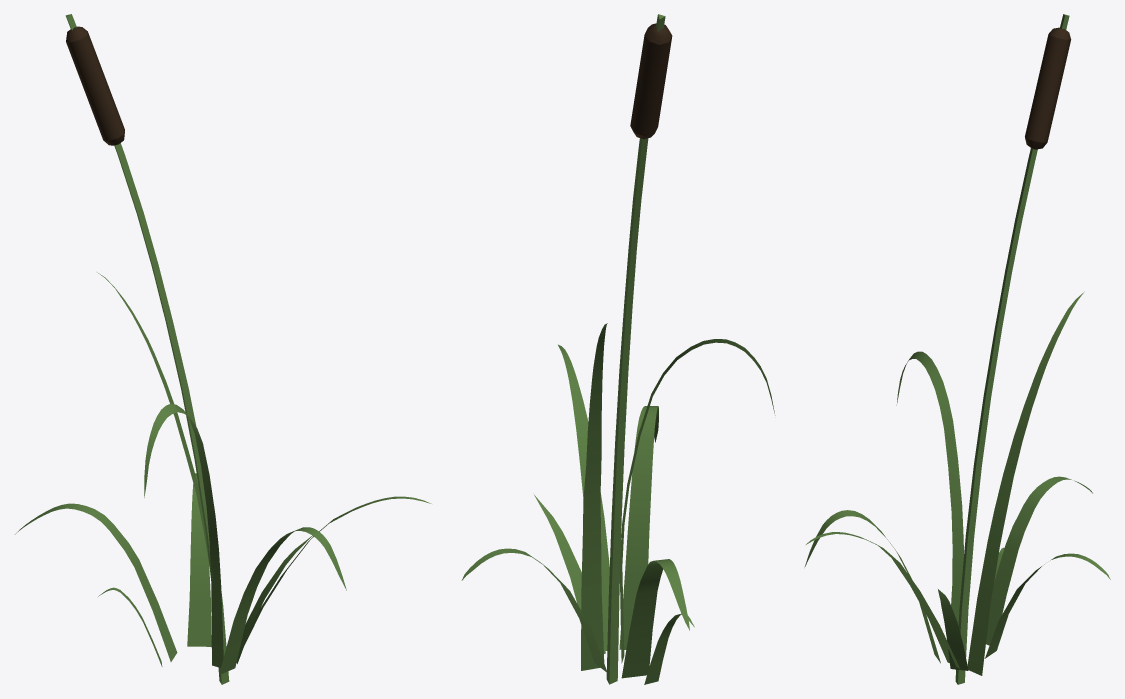
Rendered from plant_cattail_C.fbx.
3 views of the same model, side by side, from view 1: azimuth 30°, elevation 25°; view 2: azimuth 150°, elevation 25°; view 3: azimuth 270°, elevation 25° (orthographic). The views are drawn at different scales.
Parts seen in each view (by area): view 1: plant_cattail_C_twig_A, plant_cattail_C_leaf_B, plant_cattail_C_flower_A, plant_cattail_C_leaf_E, plant_cattail_C_leaf_F, plant_cattail_C_leaf_D, plant_cattail_C_leaf_A, plant_cattail_C_leaf_H; view 2: plant_cattail_C_twig_A, plant_cattail_C_leaf_A, plant_cattail_C_leaf_F, plant_cattail_C_leaf_D, plant_cattail_C_flower_A, plant_cattail_C_leaf_G, plant_cattail_C_leaf_B, plant_cattail_C_leaf_E, plant_cattail_C_leaf_H, plant_cattail_C_leaf_I; view 3: plant_cattail_C_twig_A, plant_cattail_C_leaf_A, plant_cattail_C_leaf_B, plant_cattail_C_flower_A, plant_cattail_C_leaf_D, plant_cattail_C_leaf_G, plant_cattail_C_leaf_H, plant_cattail_C_leaf_E, plant_cattail_C_leaf_F.
Boxes of the visible parts, left/top/right/bottom form: plant_cattail_C_twig_A: left=65, top=14, right=229, bottom=684; plant_cattail_C_leaf_B: left=144, top=403, right=223, bottom=667; plant_cattail_C_flower_A: left=66, top=26, right=124, bottom=145; plant_cattail_C_leaf_E: left=187, top=473, right=211, bottom=646; plant_cattail_C_leaf_F: left=219, top=527, right=346, bottom=674; plant_cattail_C_leaf_D: left=15, top=503, right=177, bottom=661; plant_cattail_C_leaf_A: left=97, top=272, right=208, bottom=558; plant_cattail_C_leaf_H: left=236, top=535, right=312, bottom=663; plant_cattail_C_twig_A: left=606, top=14, right=665, bottom=684; plant_cattail_C_leaf_A: left=581, top=323, right=607, bottom=670; plant_cattail_C_leaf_F: left=619, top=406, right=658, bottom=649; plant_cattail_C_leaf_D: left=621, top=559, right=689, bottom=678; plant_cattail_C_flower_A: left=630, top=23, right=672, bottom=139; plant_cattail_C_leaf_G: left=558, top=344, right=609, bottom=650; plant_cattail_C_leaf_B: left=619, top=339, right=775, bottom=663; plant_cattail_C_leaf_E: left=461, top=548, right=607, bottom=672; plant_cattail_C_leaf_H: left=534, top=495, right=605, bottom=653; plant_cattail_C_leaf_I: left=644, top=613, right=694, bottom=684; plant_cattail_C_twig_A: left=955, top=14, right=1069, bottom=684; plant_cattail_C_leaf_A: left=967, top=291, right=1084, bottom=675; plant_cattail_C_leaf_B: left=896, top=351, right=963, bottom=625; plant_cattail_C_flower_A: left=1025, top=27, right=1071, bottom=149; plant_cattail_C_leaf_D: left=986, top=476, right=1092, bottom=645; plant_cattail_C_leaf_G: left=806, top=532, right=959, bottom=668; plant_cattail_C_leaf_H: left=938, top=589, right=968, bottom=670; plant_cattail_C_leaf_E: left=985, top=553, right=1110, bottom=658; plant_cattail_C_leaf_F: left=804, top=510, right=940, bottom=663.
Bounding box in the file's own units: 74.2 × 173 × 77.08.
